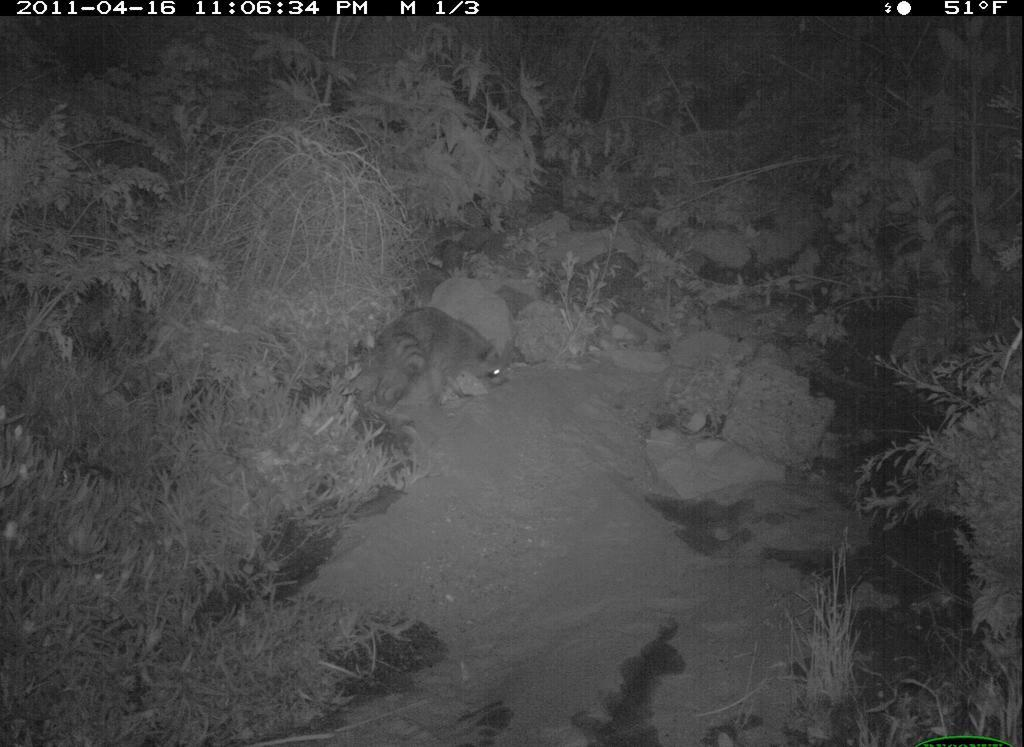raccoon: (369, 304, 521, 411)
